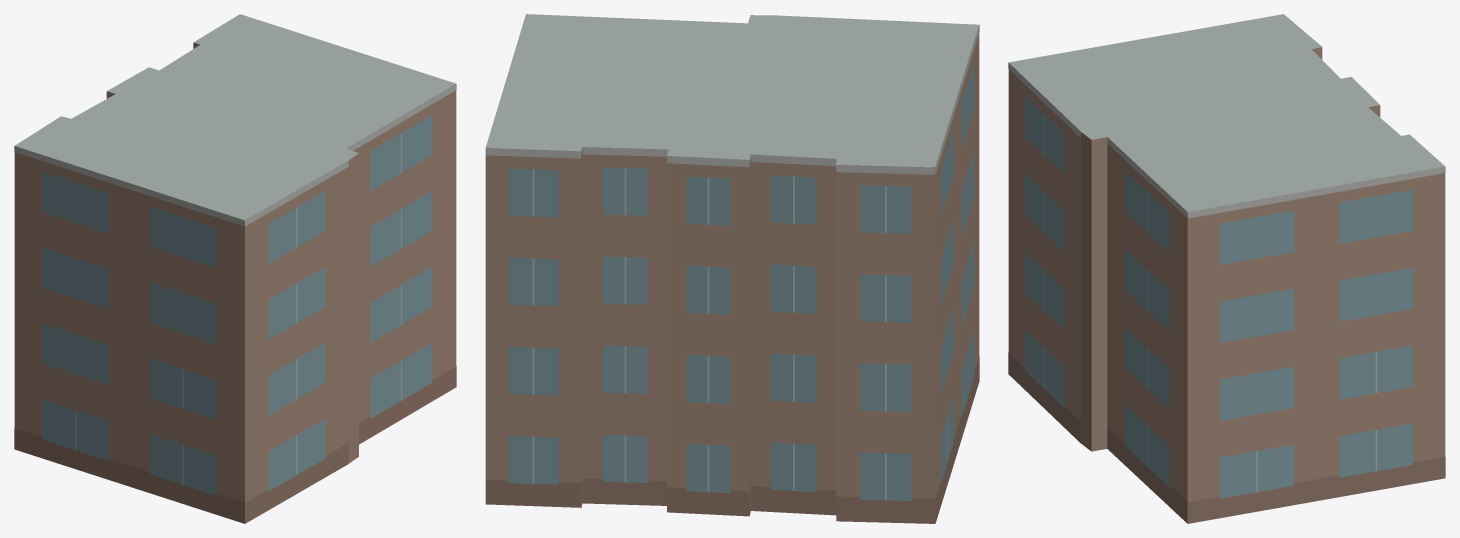
Rendered from survey-upis-33022066.glb.
The picture shows the model from 3 angles, left to right: view 1: azimuth 30°, elevation 25°; view 2: azimuth 150°, elevation 25°; view 3: azimuth 270°, elevation 25°; orthographic projection. The views are drawn at different scales.
Visible parts, largest first — view 1: survey-upis-33022066.tmp; view 2: survey-upis-33022066.tmp; view 3: survey-upis-33022066.tmp.
Boxes of the visible parts, <box> form: survey-upis-33022066.tmp: <box>14,14,456,523</box>; survey-upis-33022066.tmp: <box>485,14,979,523</box>; survey-upis-33022066.tmp: <box>1008,14,1445,523</box>.
Size of the model in its own units: 16.1 by 11.8 by 15.
